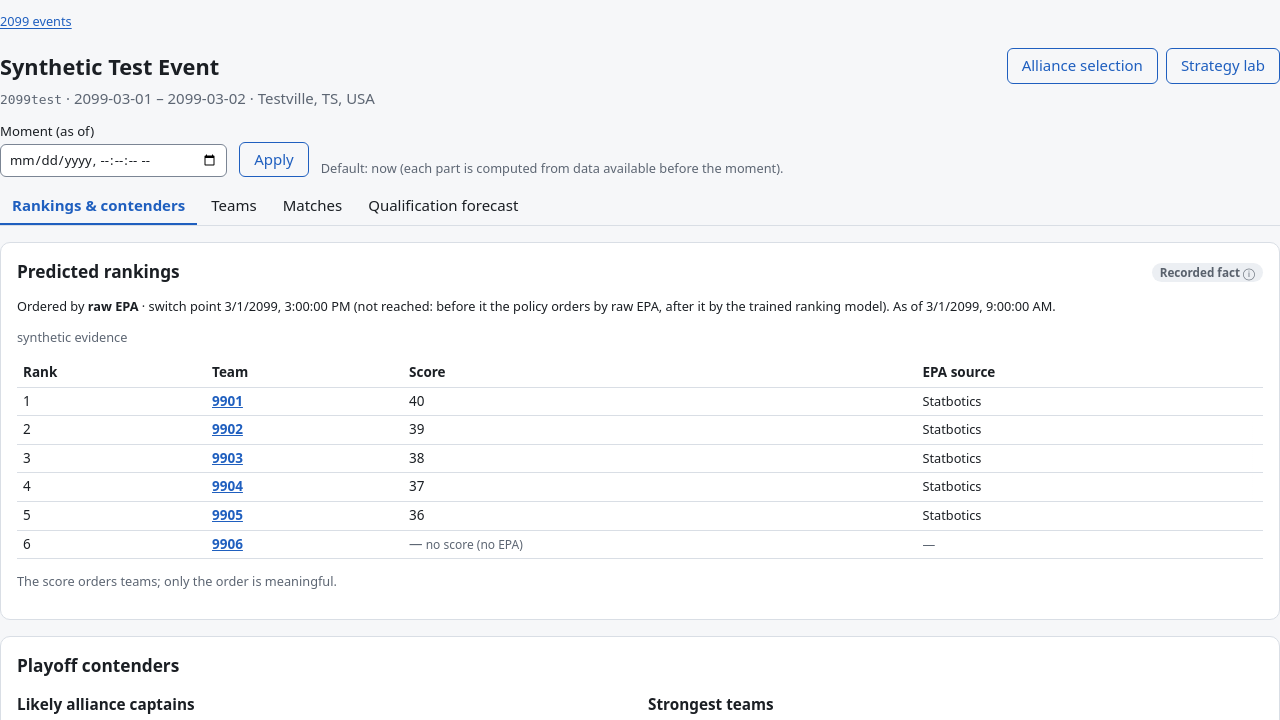
Test case: EventPage (P8-M2 b) › switches tabs through the URL, fetches each tab once, and keeps it
Expected: the table named "Predicted ranking" is shown, x1=17 y1=359 x2=1263 y2=559
What coordinates should you click on to do the following:
click the tab "Matches"
I would click on:
 (312, 207)
Its box is x1=271 y1=189 x2=354 y2=225.
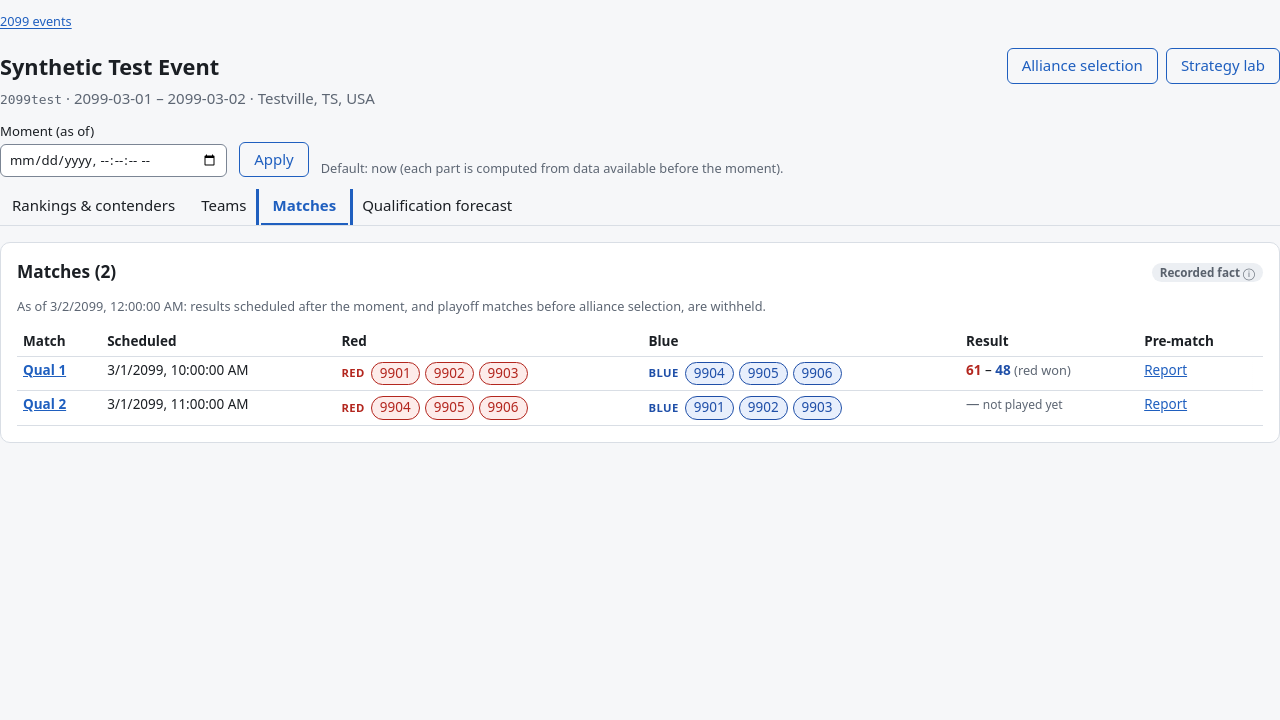
Result: the text "not played yet" is shown at x1=983 y1=396 x2=1063 y2=413
What coordinates should you click on to do the following:
click the tab "Rankings & contenders"
I would click on:
 (94, 207)
Its box is x1=0 y1=189 x2=187 y2=225.
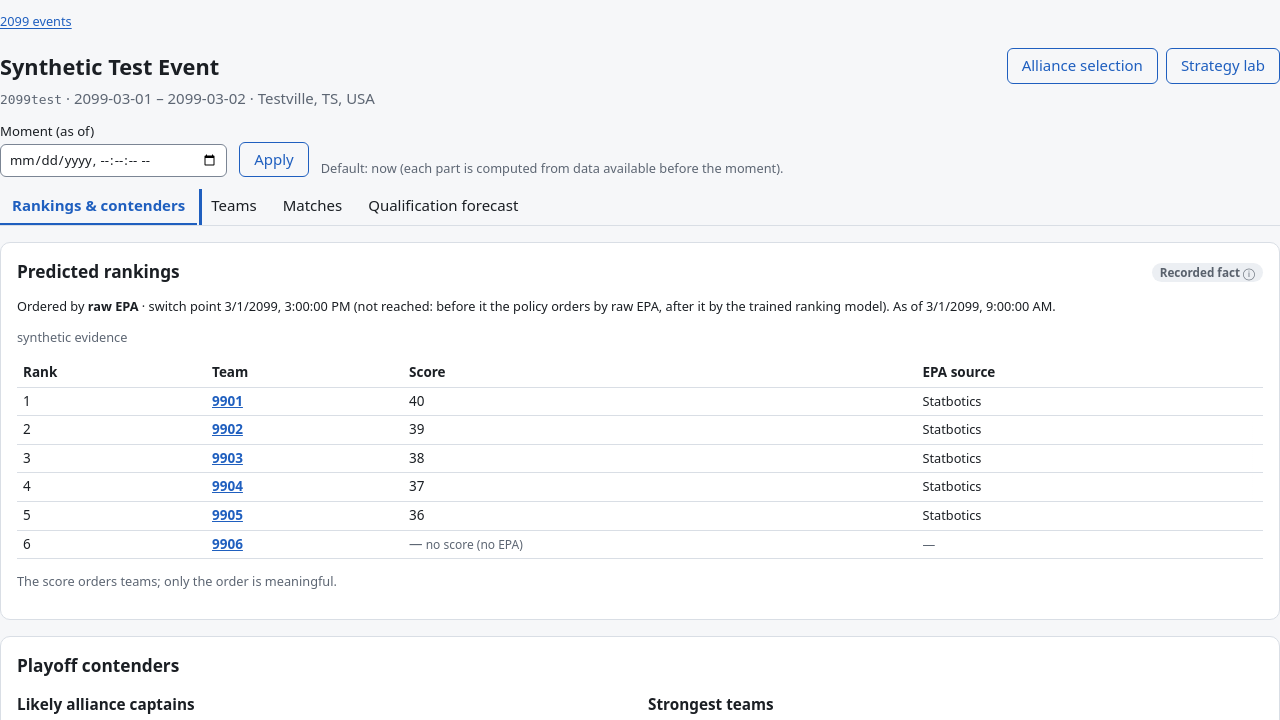
Result: the table named "Predicted ranking" is shown at x1=17 y1=359 x2=1263 y2=559
